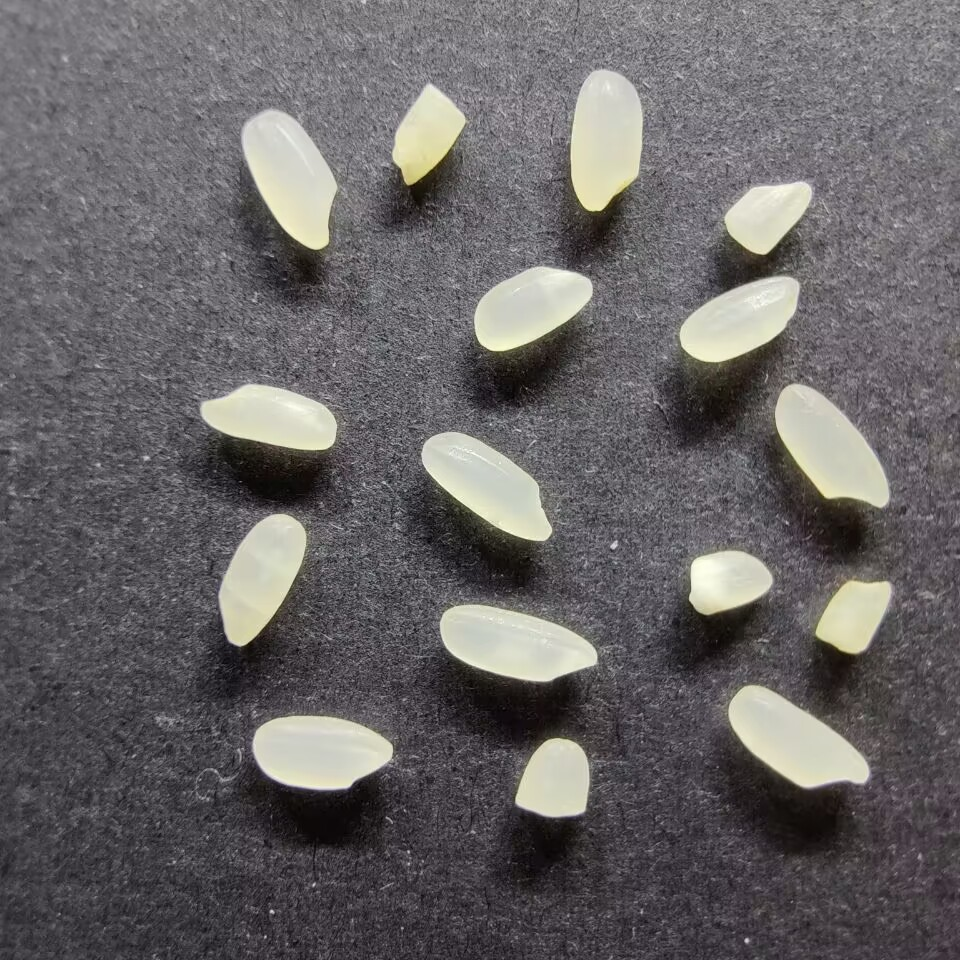broken: (390, 81, 466, 187), (722, 177, 812, 255), (813, 577, 895, 656), (512, 737, 591, 817), (685, 549, 775, 615)
rice: (726, 683, 871, 790), (419, 430, 555, 543), (773, 382, 890, 507), (240, 109, 337, 251), (437, 602, 598, 683), (216, 512, 307, 647), (251, 713, 394, 791), (677, 274, 800, 363), (568, 68, 644, 212), (472, 265, 594, 352), (198, 382, 338, 451)
